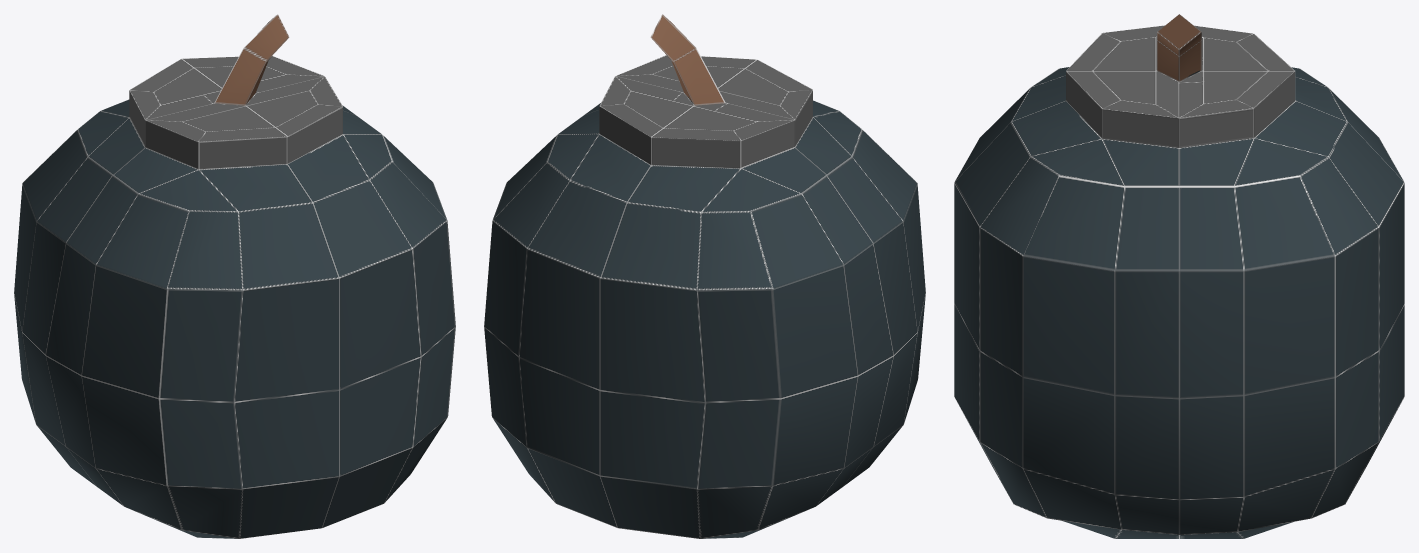
The model's file is bomb.obj.
3 renders of one model, left to right at view 1: azimuth 30°, elevation 25°; view 2: azimuth 150°, elevation 25°; view 3: azimuth 270°, elevation 25°, orthographic. The views are drawn at different scales.
Visible parts, largest first — view 1: pCube3; view 2: pCube3; view 3: pCube3.
Boxes of the visible parts, x1=… form: pCube3: x1=14, y1=14, x2=455, y2=538; pCube3: x1=484, y1=14, x2=925, y2=538; pCube3: x1=954, y1=14, x2=1404, y2=538.
Size of the model in its own units: 1.94 by 2.32 by 1.85.
